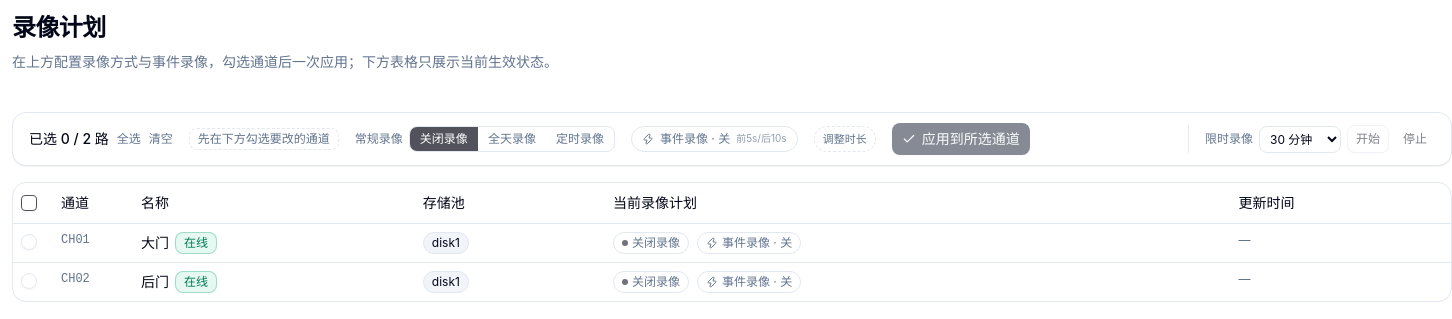
Test: select all and clear move the whole selection
Click the button "全选". click: coordinates (129, 139)
box: left=117, top=131, right=141, bottom=147
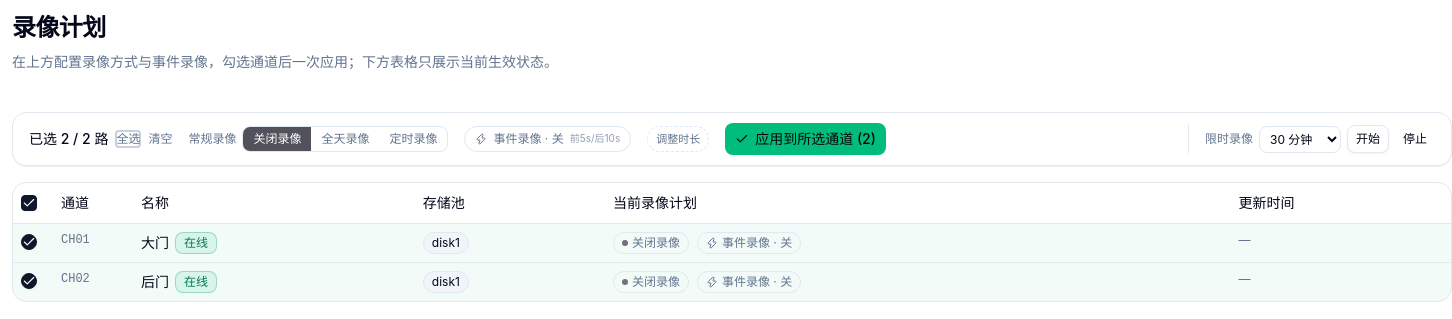
Now the text "已选 2 / 2 路 全选 清空" is shown, box left=29, top=129, right=172, bottom=149
Click the button "清空". click: coordinates (160, 139)
box: left=148, top=131, right=172, bottom=147
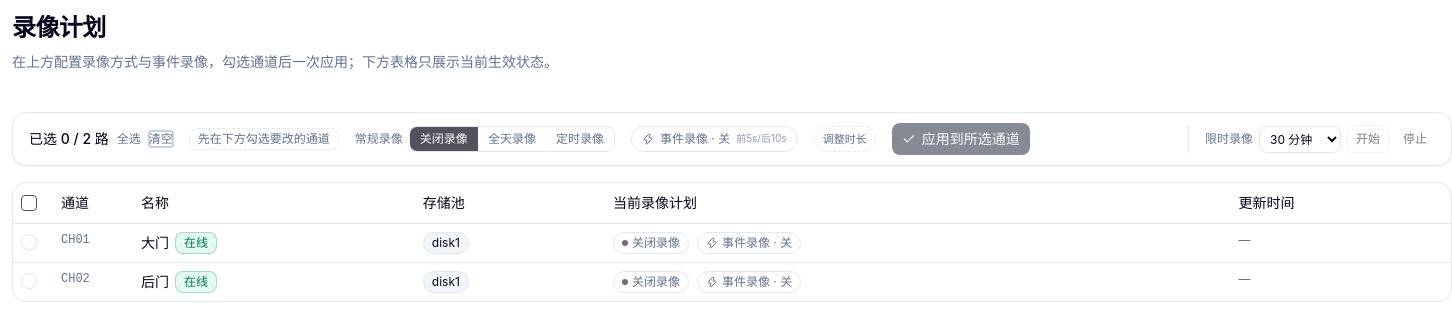
Now the text "已选 0 / 2 路 全选 清空" is shown, box left=29, top=129, right=173, bottom=149
